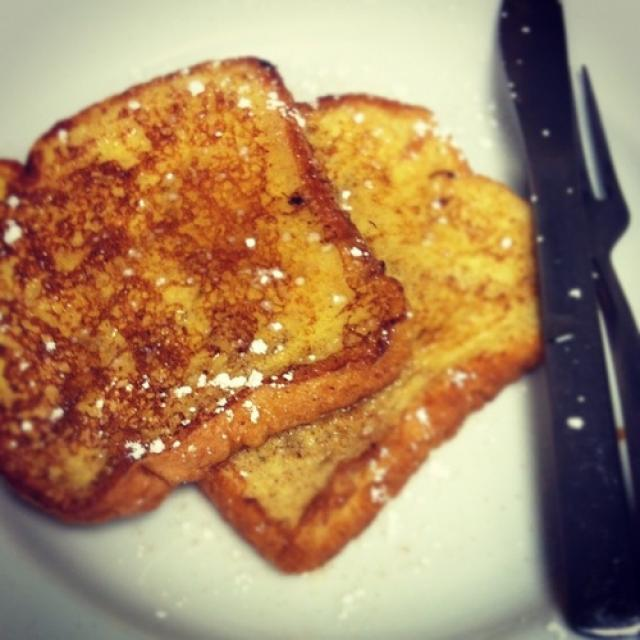面包点心: (5, 26, 563, 592)
